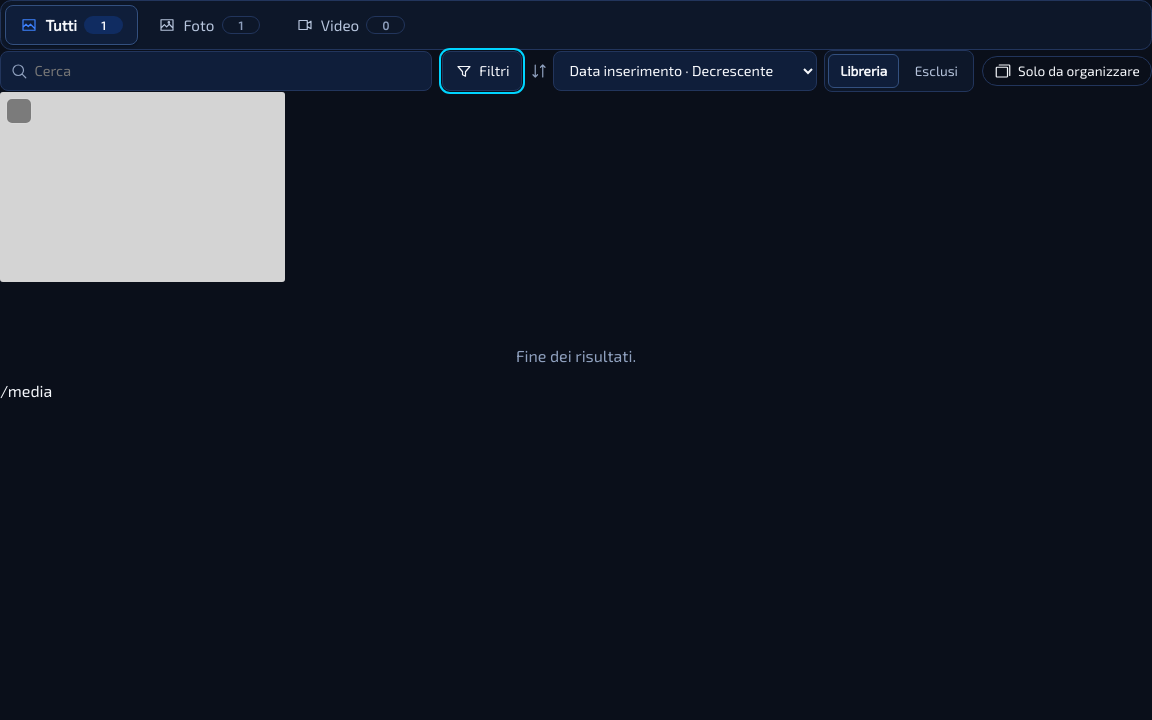
Test: viewer similarity actions — parity across origins › Library origin exposes both actions
Click the button named "Apri photo.jpg" at (142, 187), box top-left (0, 92), bottom-right (285, 282)
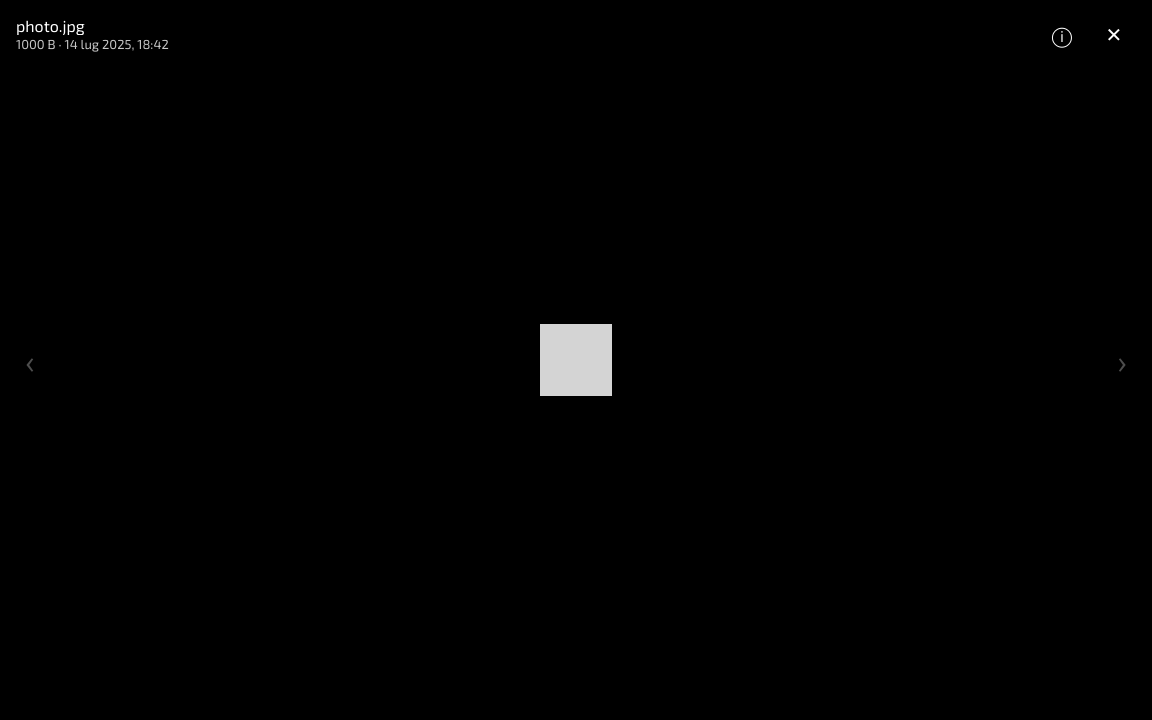
Click the button with test id "viewer-details-toggle" at (1062, 34), box top-left (1040, 12), bottom-right (1084, 56)
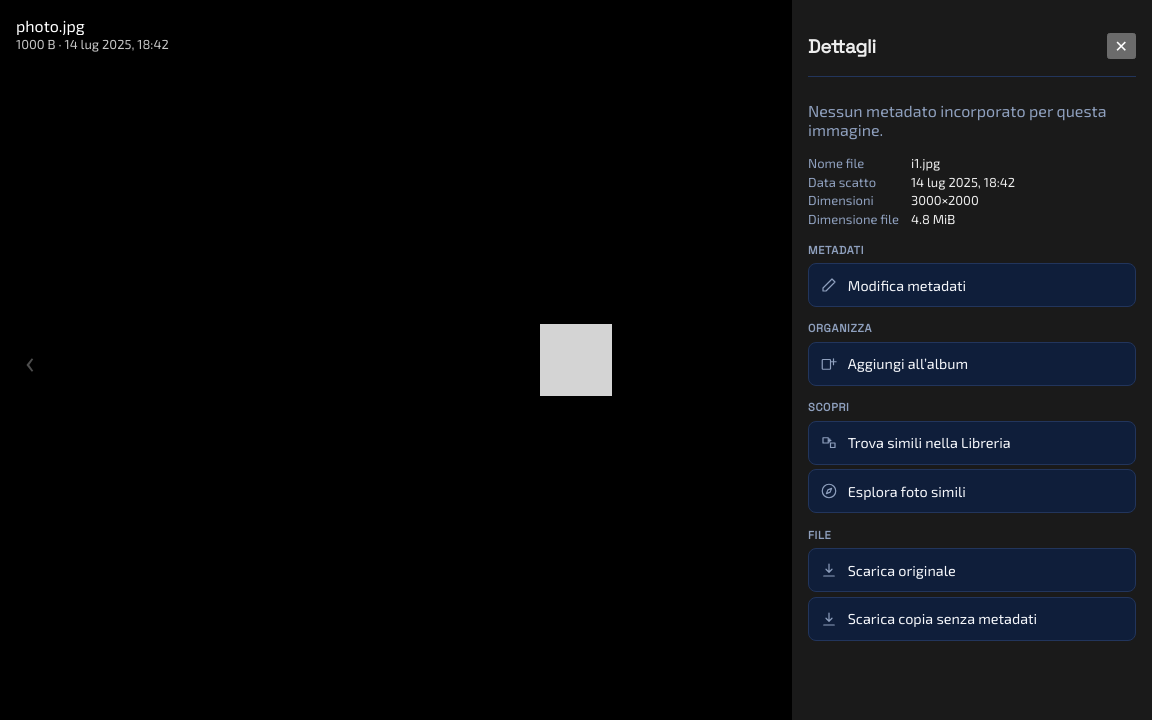
Now the button with test id "viewer-find-similar" is shown, box top-left (808, 421), bottom-right (1136, 465)
Now the button with test id "viewer-explore-similar" is shown, box top-left (808, 469), bottom-right (1136, 513)
